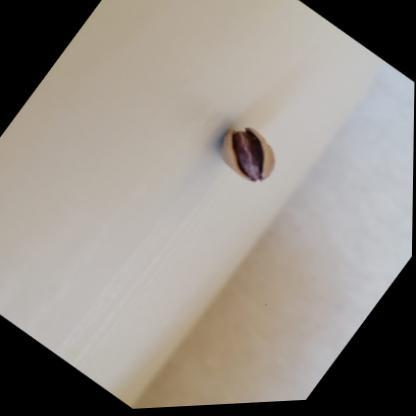pistachio: (218, 117, 276, 188)
